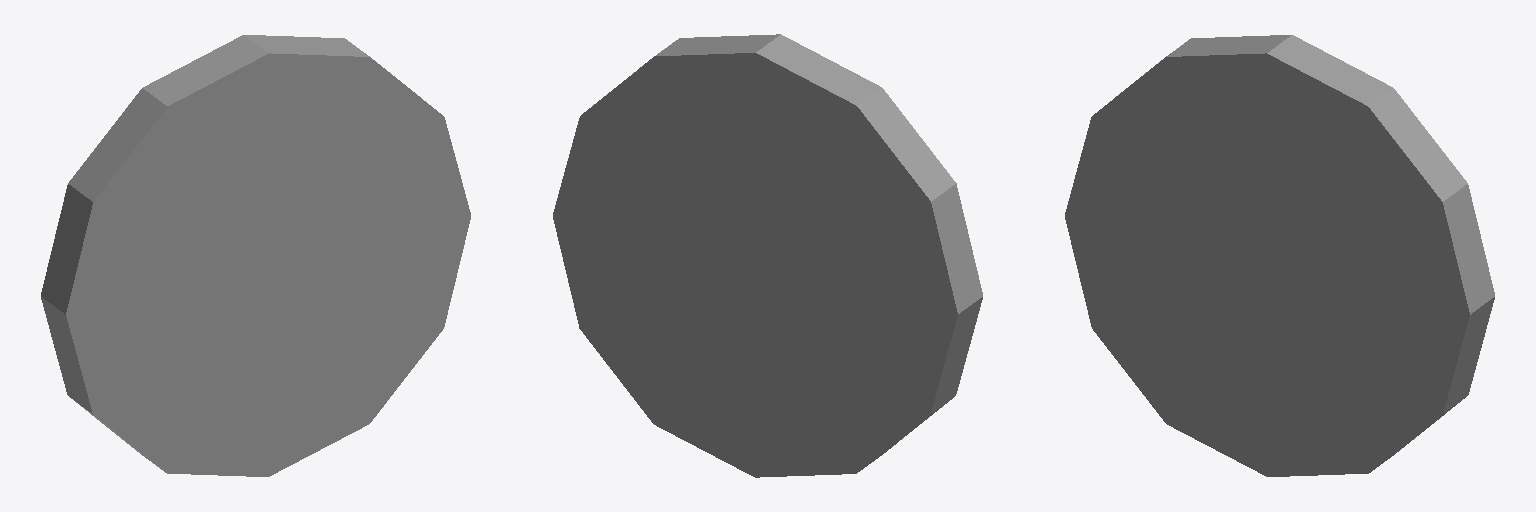
Rendered from Meat.obj.
The picture shows the model from 3 angles: view 1: azimuth 30°, elevation 25°; view 2: azimuth 150°, elevation 25°; view 3: azimuth 330°, elevation 25°; orthographic projection.
Visible parts, largest first — view 1: Cylinder; view 2: Cylinder; view 3: Cylinder.
Boxes of the visible parts, box(x1,y1,x2,y2) form: Cylinder: box(41, 35, 470, 476); Cylinder: box(553, 34, 982, 477); Cylinder: box(1065, 35, 1494, 476).
Bounding box in the file's own units: 4.55 × 4.56 × 0.508.